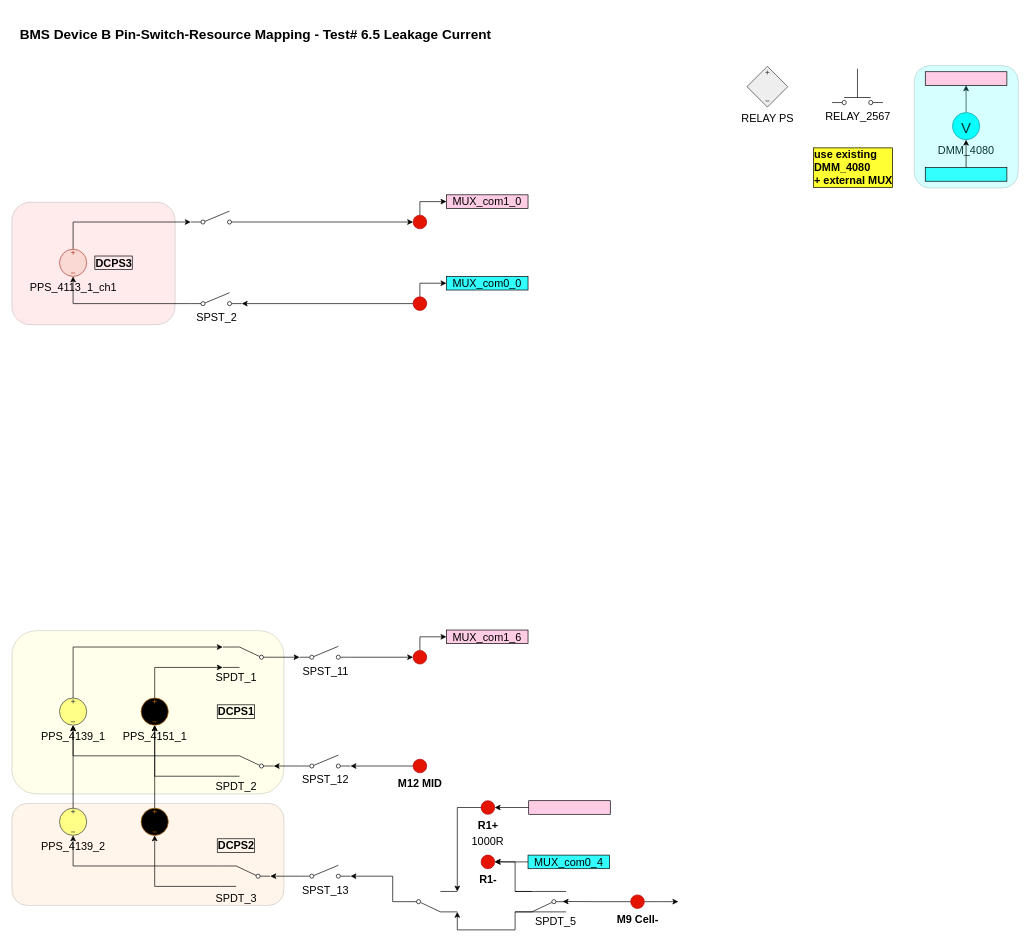
Some shapes in this 1030 by 947 pixel diagram are drawn without their labels. The shapes that lost their labels are listed below. From the top down, each one's box as (x1, y1, x2, y2) in pixels, then its label:
(925, 71, 1007, 85): MUX_com1
(925, 167, 1007, 181): MUX_com0
(190, 210, 242, 225): SPST_1
(412, 215, 427, 229): J5/J6 R+
(412, 296, 427, 310): J3/J4 R-
(412, 650, 427, 664): M8 Cell+
(140, 808, 168, 835): PPS_4151_2
(528, 800, 610, 814): MUX_com1_5
(406, 891, 457, 912): SPDT_4
